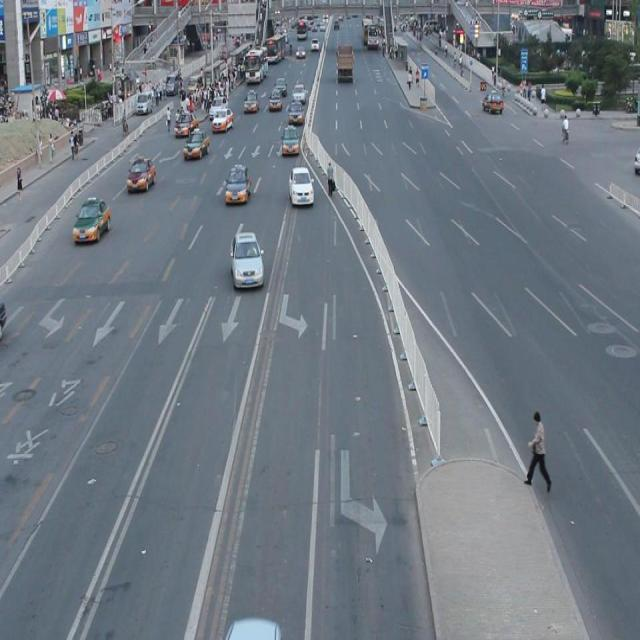car: (229, 229, 264, 289), (72, 197, 111, 245), (287, 165, 314, 207), (126, 157, 156, 193), (224, 164, 251, 202)
